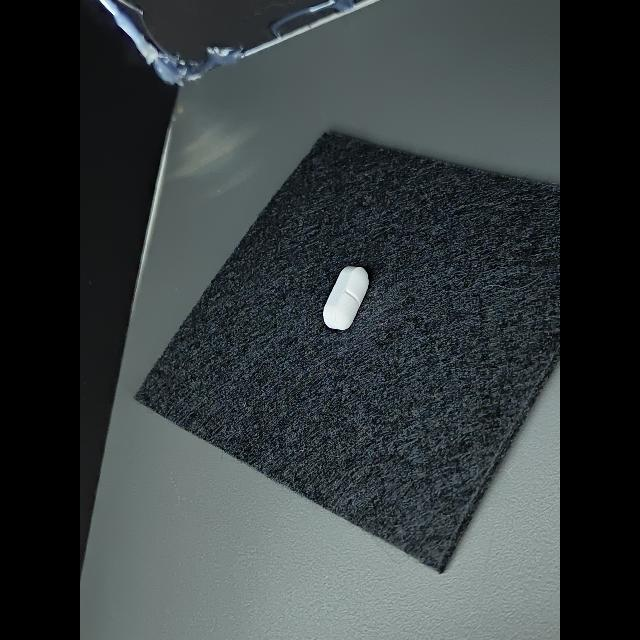Intact Pill: (323, 266, 369, 330)
